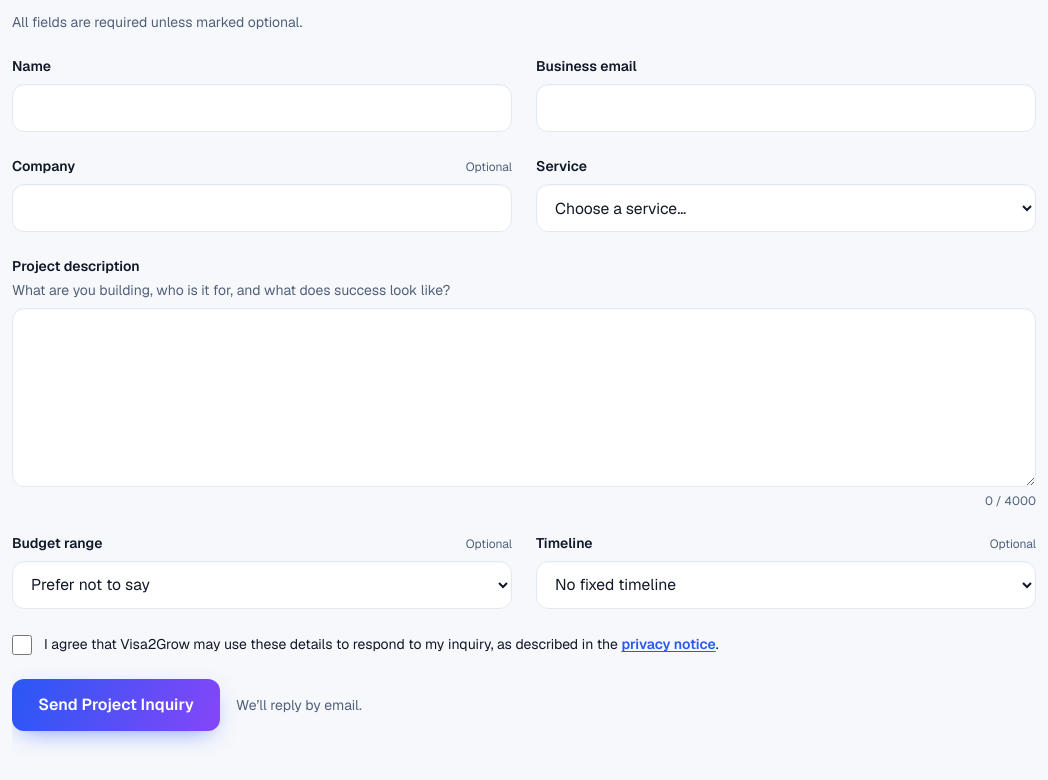
Scenario: ContactForm › keeps the data and explains the failure when sending fails
In the field labelled "Name": x=262, y=108 [12,84,512,132], type "Asha Rao"
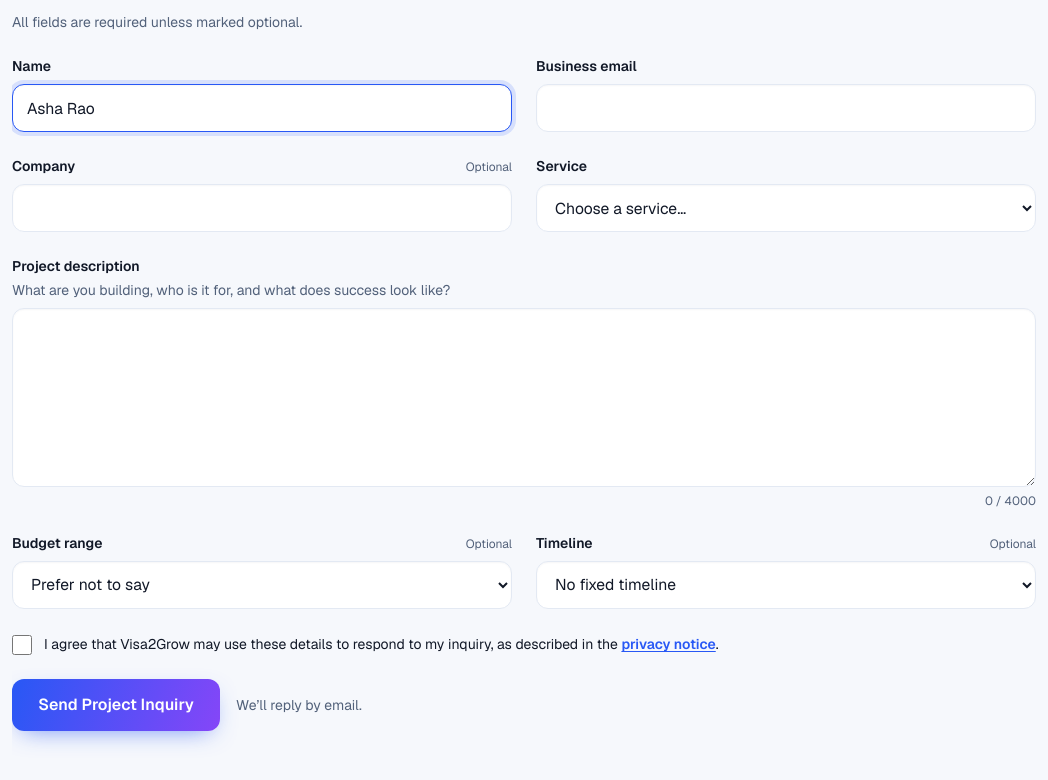
In the field labelled "Business email": x=786, y=108 [536,84,1036,132], type "asha@example.com"
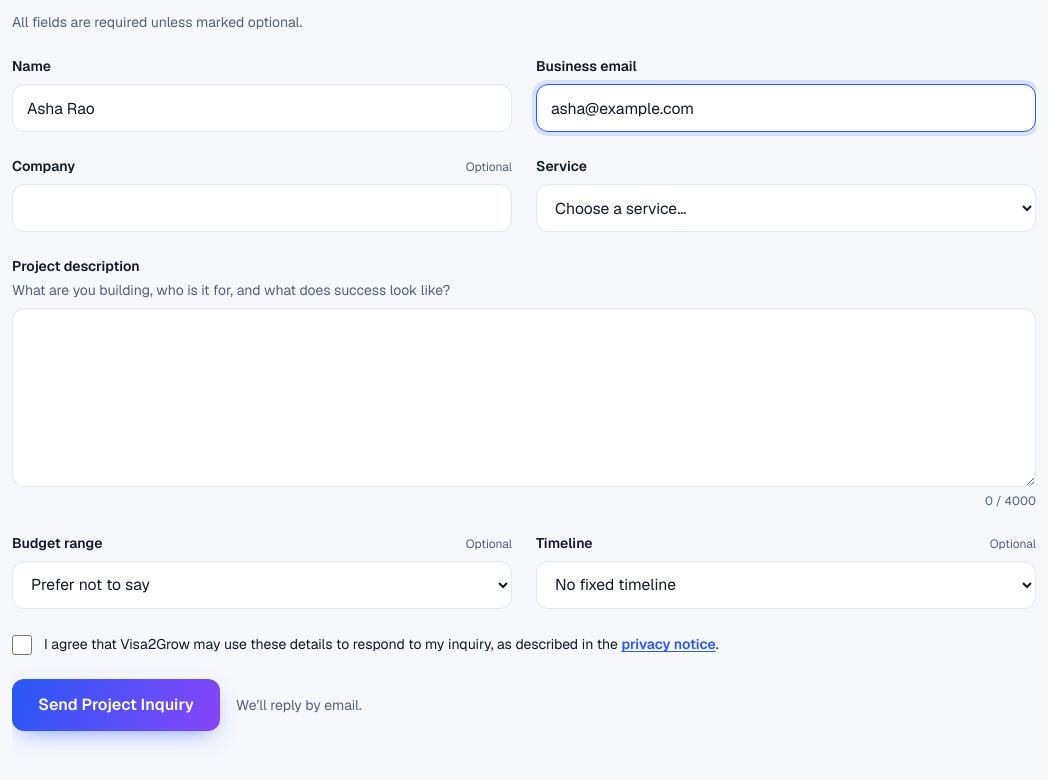
Select "Web Development" in the dropdown labelled "Service": x=786, y=208 [536,184,1036,232]
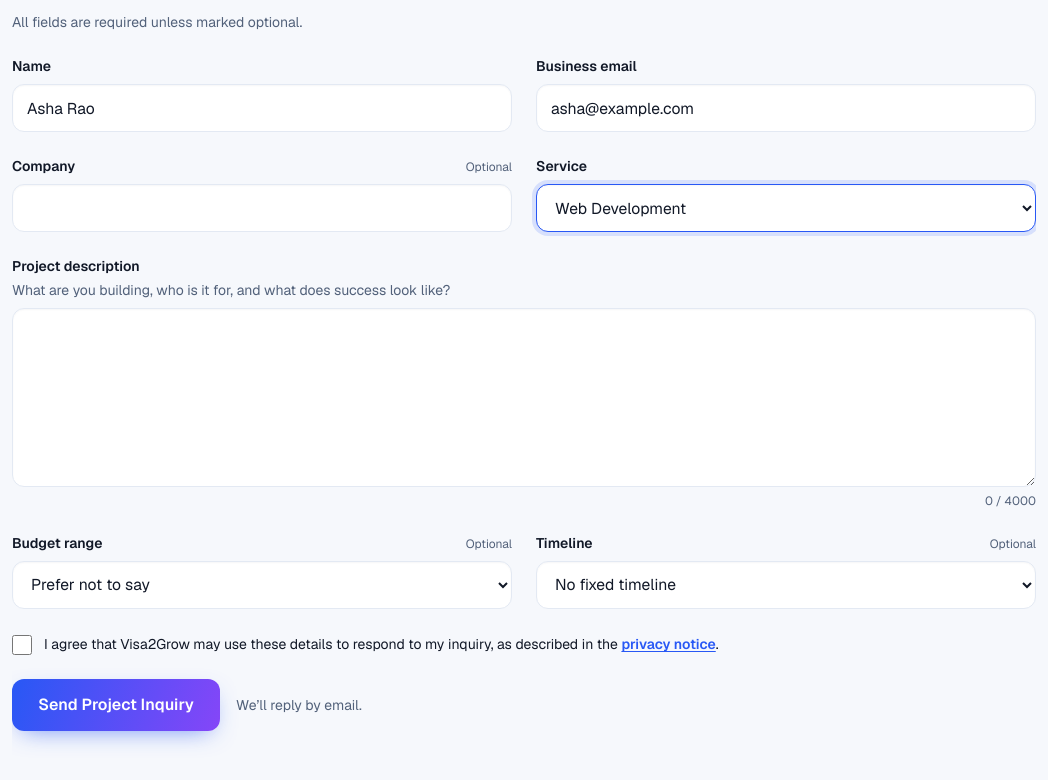
In the text box labelled "Project description": x=524, y=397 [12,308,1036,487], type "We need a customer portal for booking and paying for maintenance visits."
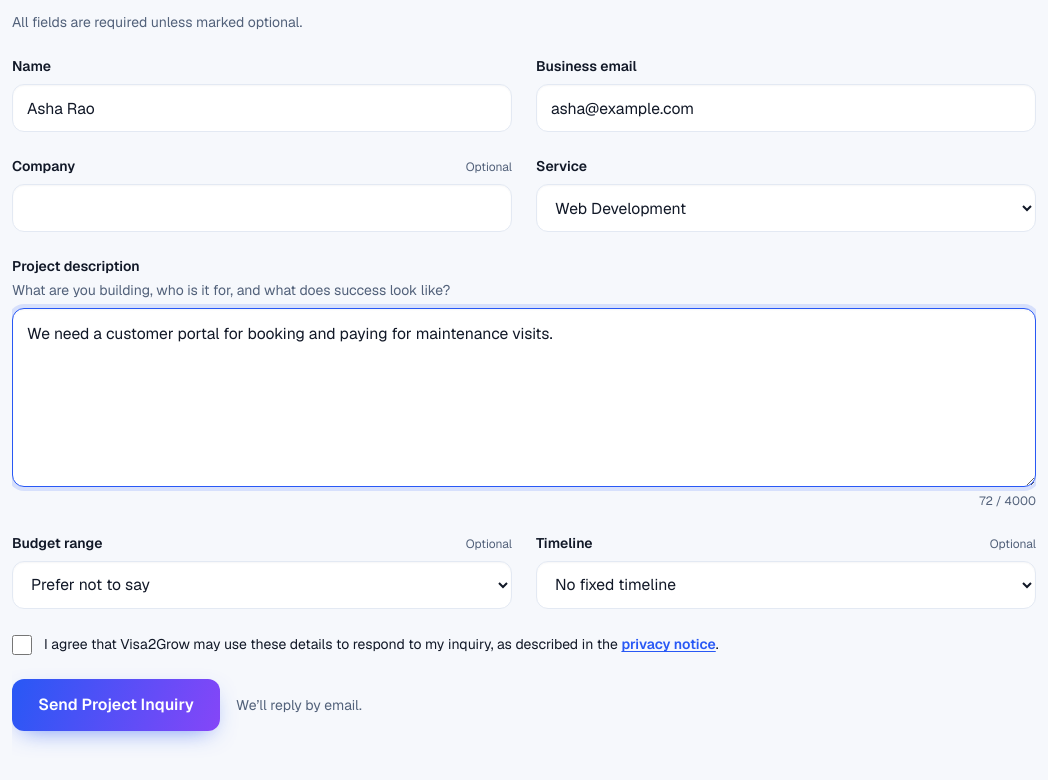
Click the checkbox: x=22, y=645 [12,635,32,655]
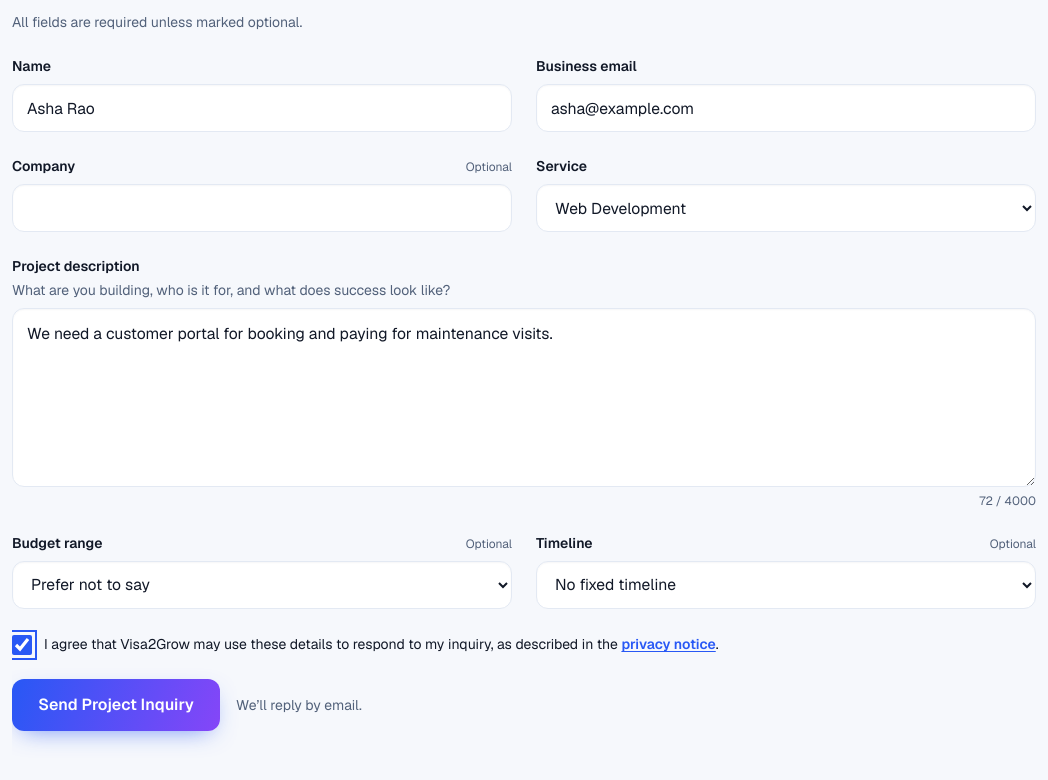
Click the button "Send Project Inquiry": x=116, y=706 [12,680,220,732]
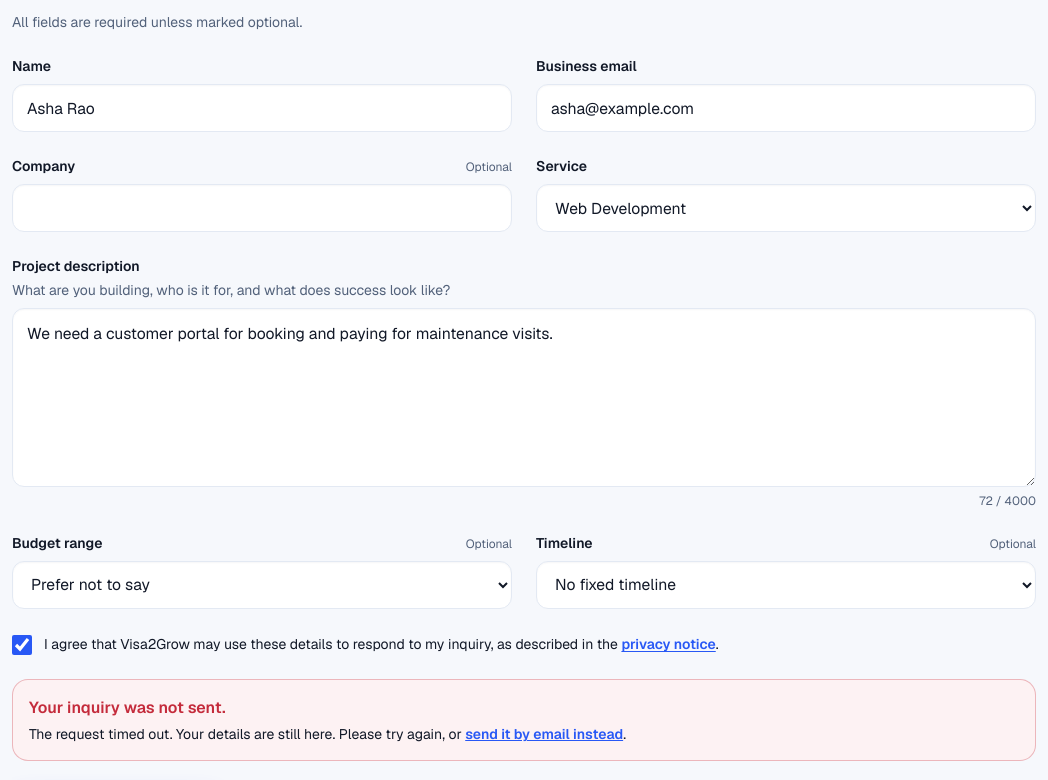
Result: the text "Your inquiry was not sent." is shown at [29,698,226,718]
Result: the text "The request timed out" is shown at [29,726,172,744]
